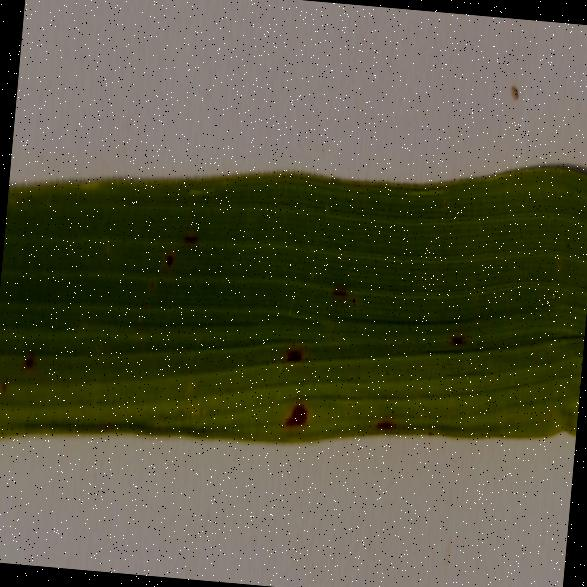Brown_Spot: (276, 328, 322, 434), (13, 335, 38, 384), (179, 220, 206, 254), (370, 413, 399, 433), (158, 242, 174, 272)
